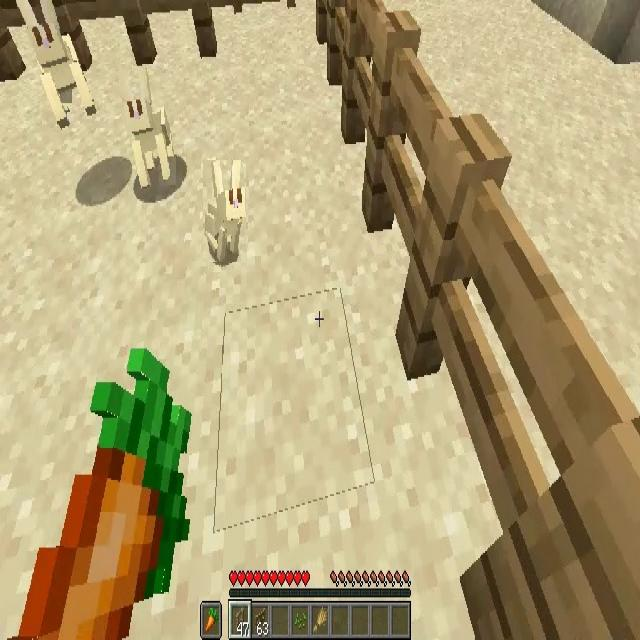rabbit: (129, 79, 174, 189), (203, 160, 246, 262)
